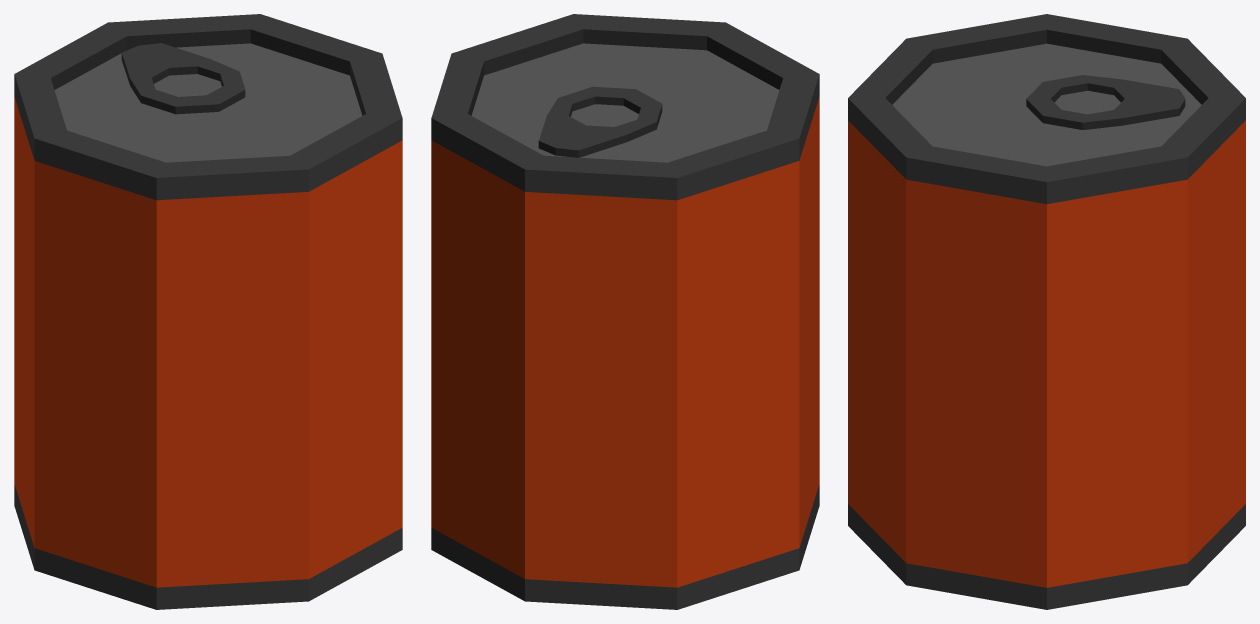
File: TinCan.fbx
The picture shows the model from 3 angles, left to right: view 1: azimuth 30°, elevation 25°; view 2: azimuth 150°, elevation 25°; view 3: azimuth 270°, elevation 25°; orthographic projection.
Visible parts, largest first — view 1: TinCan; view 2: TinCan; view 3: TinCan.
Part boxes in pixels (x1,y1,x2,y2): TinCan: [14, 14, 402, 609]; TinCan: [431, 14, 819, 609]; TinCan: [848, 14, 1245, 609].
Size of the model in its own units: 88.93 by 88.93 by 105.
